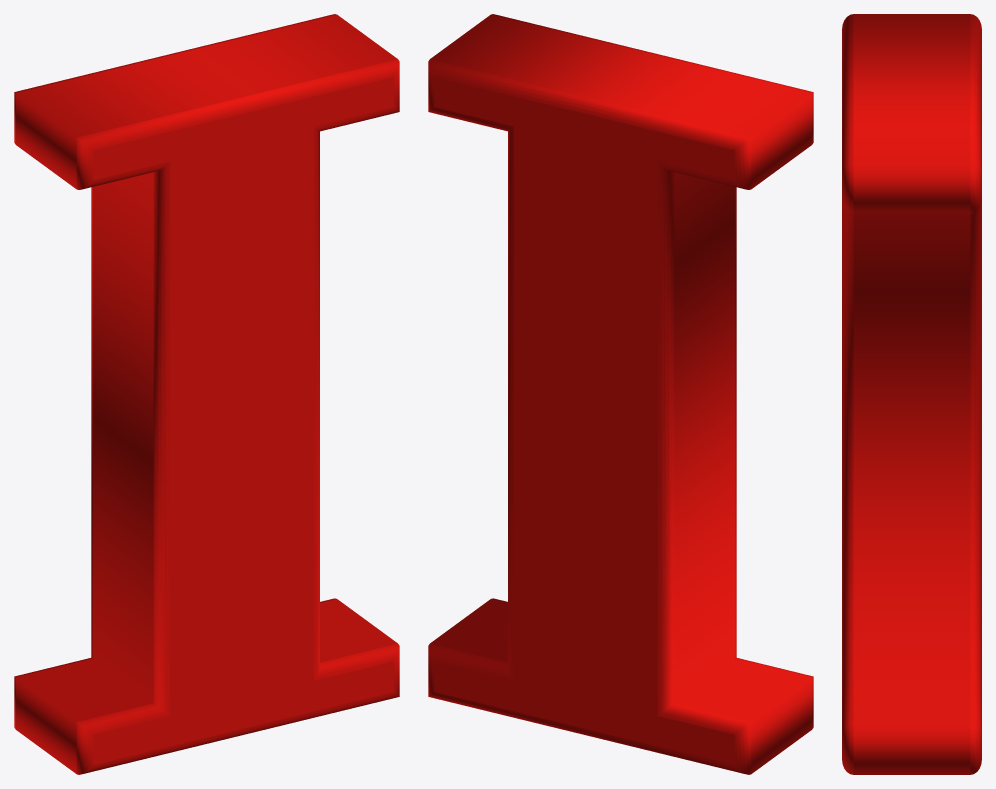
Rendered from capital_i.fbx.
3 renders of one model, left to right at view 1: azimuth 30°, elevation 25°; view 2: azimuth 150°, elevation 25°; view 3: azimuth 270°, elevation 25°, orthographic. The views are drawn at different scales.
Parts seen in each view (by area): view 1: Text; view 2: Text; view 3: Text.
Boxes of the visible parts, x1=… form: Text: x1=14, y1=14, x2=399, y2=774; Text: x1=428, y1=14, x2=813, y2=774; Text: x1=842, y1=14, x2=981, y2=774.
Bounding box in the file's own units: 117 × 221 × 45.93.
